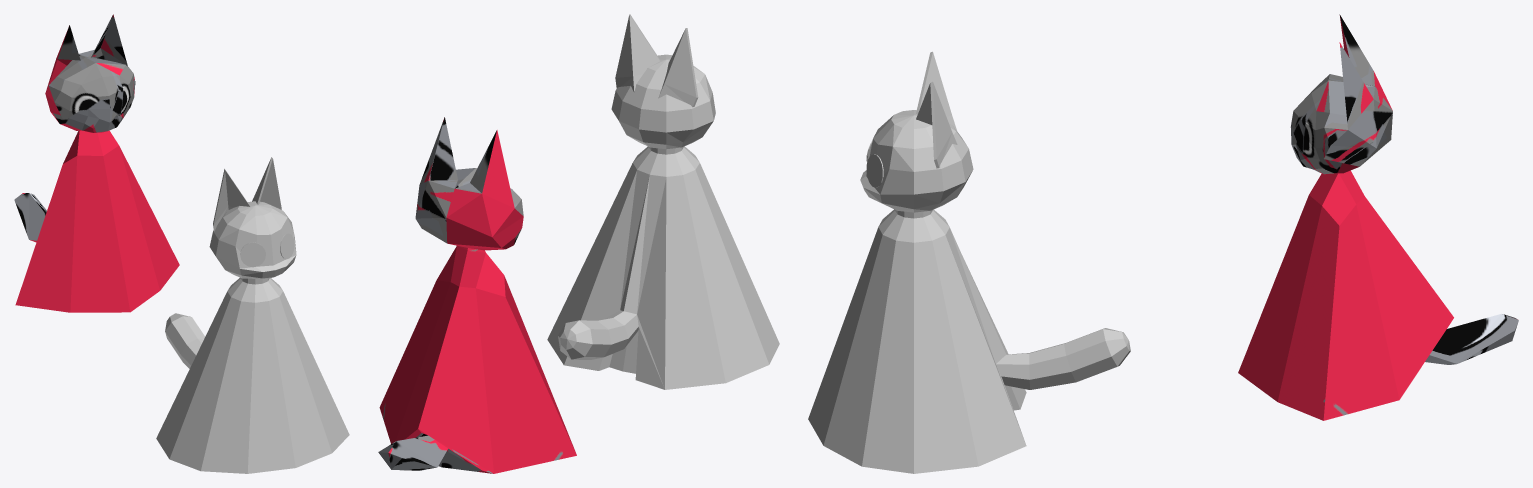
File: kitty.obj
3 renders of one model, left to right at view 1: azimuth 30°, elevation 25°; view 2: azimuth 150°, elevation 25°; view 3: azimuth 270°, elevation 25°, orthographic. The views are drawn at different scales.
Visible parts, largest first — view 1: Sphere.001, Cube.001; view 2: Sphere.001, Cube.001; view 3: Sphere.001, Cube.001.
Boxes of the visible parts, x1,y1,x2,y2 form: Sphere.001: (156, 157, 349, 473); Cube.001: (14, 14, 179, 312); Sphere.001: (547, 14, 779, 389); Cube.001: (378, 117, 576, 473); Sphere.001: (808, 51, 1130, 473); Cube.001: (1238, 14, 1518, 420).
Size of the model in its own units: 11.82 by 19.74 by 32.52.
